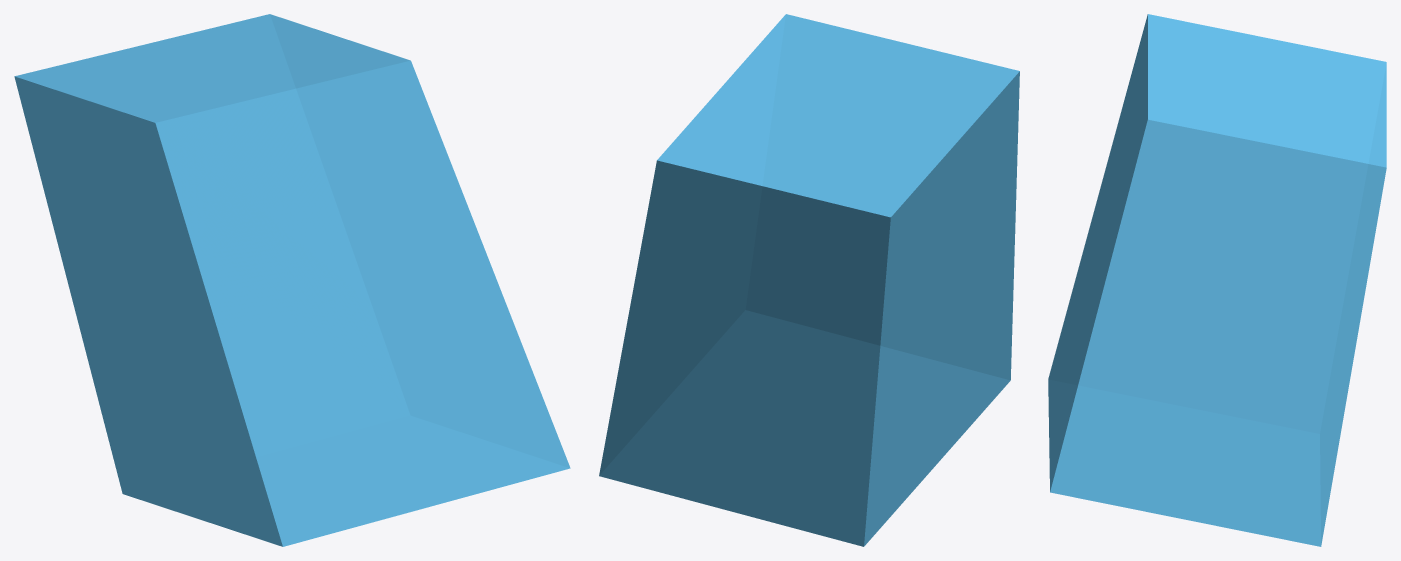
Rendered from Event_421127236_HBrechit_22.fbx.
The picture shows the model from 3 angles, left to right: view 1: azimuth 30°, elevation 25°; view 2: azimuth 150°, elevation 25°; view 3: azimuth 270°, elevation 25°; orthographic projection. The views are drawn at different scales.
Visible parts, largest first — view 1: Model; view 2: Model; view 3: Model.
Boxes of the visible parts, x1,y1,x2,y2 form: Model: (14,14,570,546); Model: (599,14,1019,546); Model: (1048,14,1386,546).
Bounding box in the file's own units: 0.5739 × 0.7091 × 0.5557.
